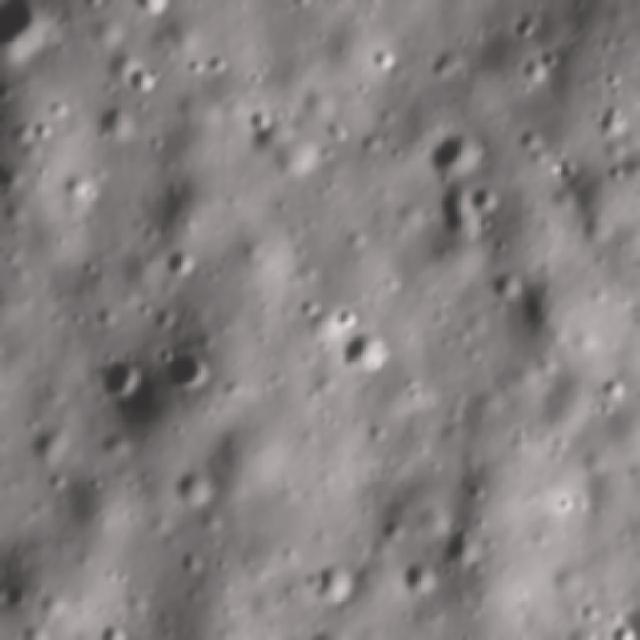crater: (422, 176, 481, 239), (96, 357, 158, 408), (431, 122, 487, 176), (158, 344, 224, 387), (42, 166, 100, 214), (307, 555, 364, 602), (167, 464, 216, 518), (232, 95, 280, 142), (150, 239, 201, 283), (511, 48, 564, 90), (95, 101, 139, 148), (342, 328, 382, 378), (119, 54, 163, 97), (463, 179, 509, 218), (480, 260, 520, 302), (442, 529, 481, 571), (392, 558, 436, 594), (358, 41, 398, 76), (174, 546, 212, 579), (504, 6, 541, 39)
